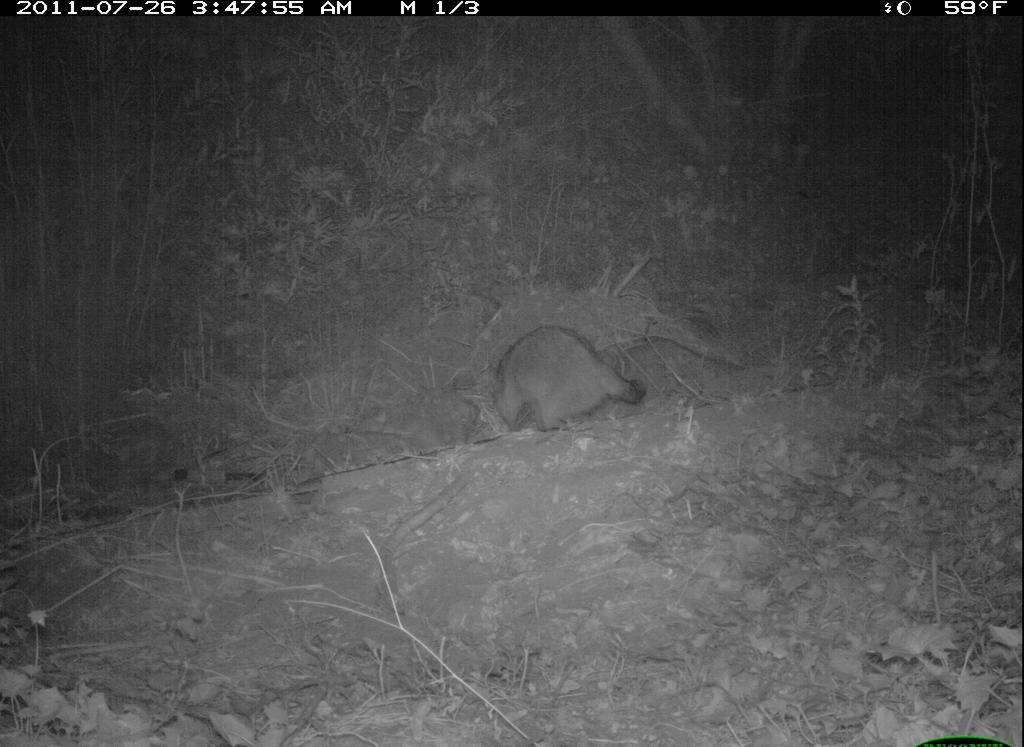raccoon: (486, 324, 652, 441)
